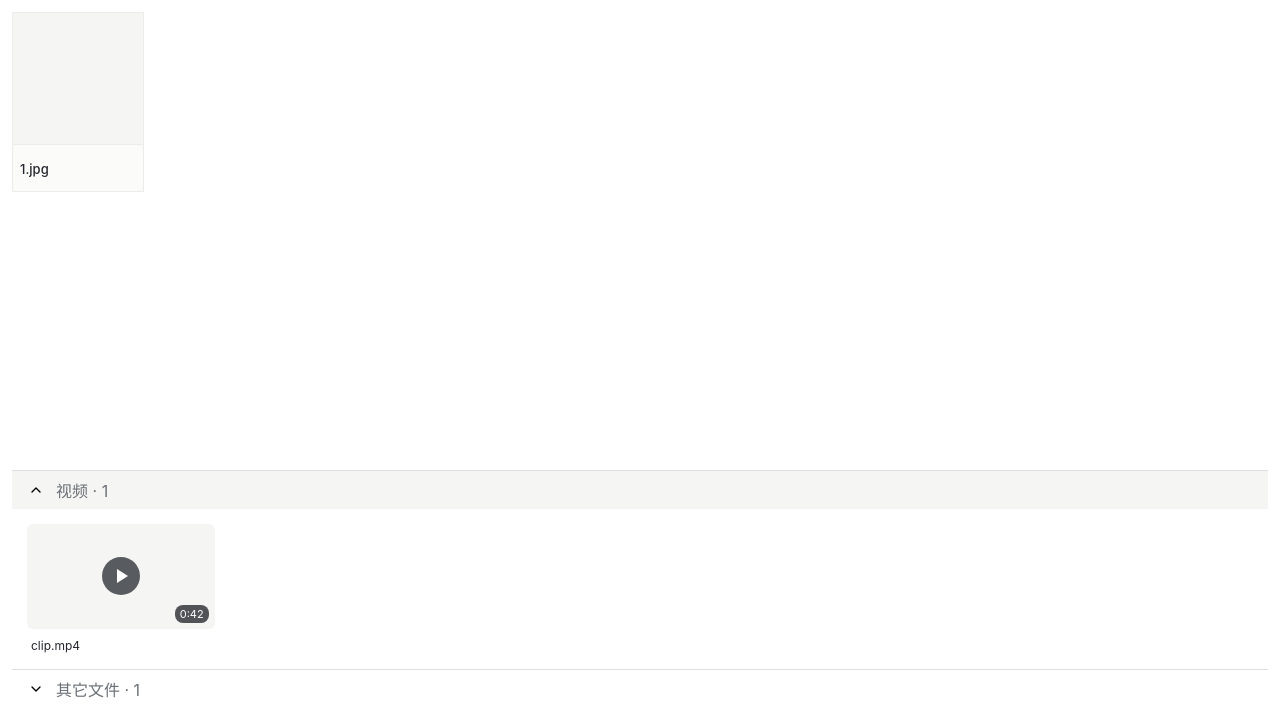
Test: ContentBrowser › keeps video selection while disclosure changes and forwards its entity through selection
This screenshot has width=1280, height=720.
Click the option "0:42 clip.mp4".
click(121, 602)  # box [22,518,220,686]
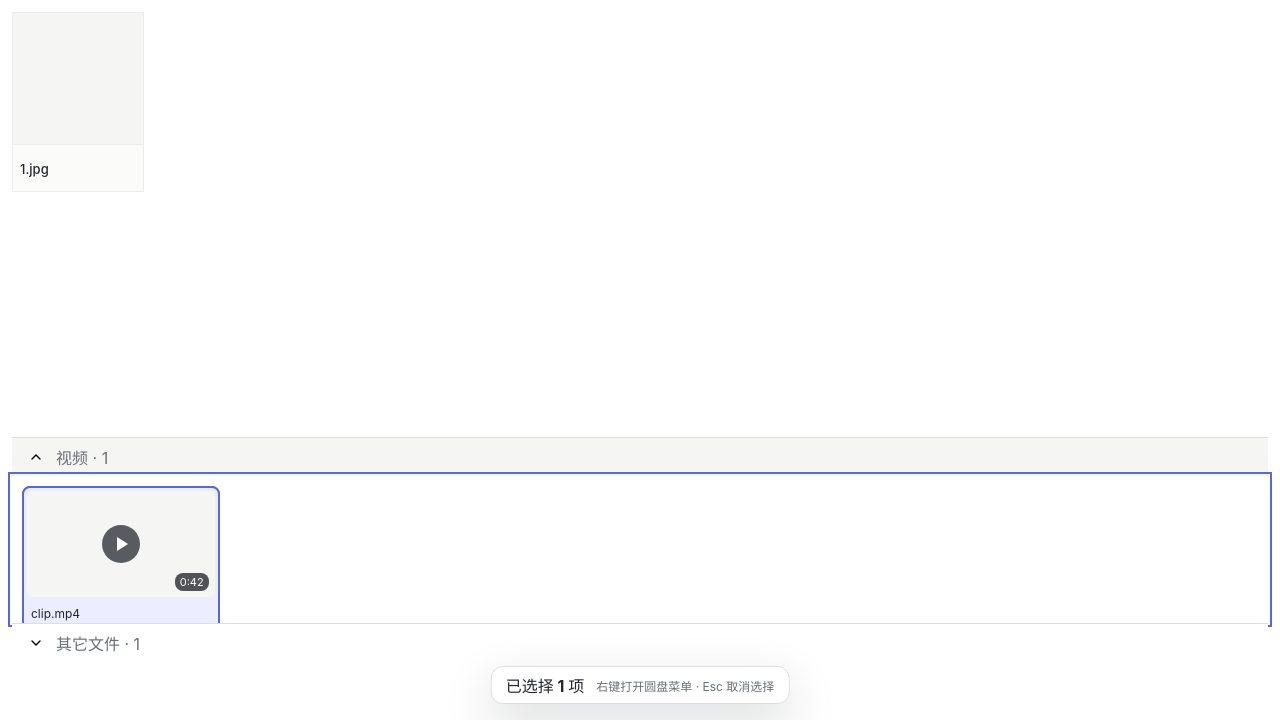
Click the button named "收起视频".
click(36, 458)  # box [20,442,52,474]
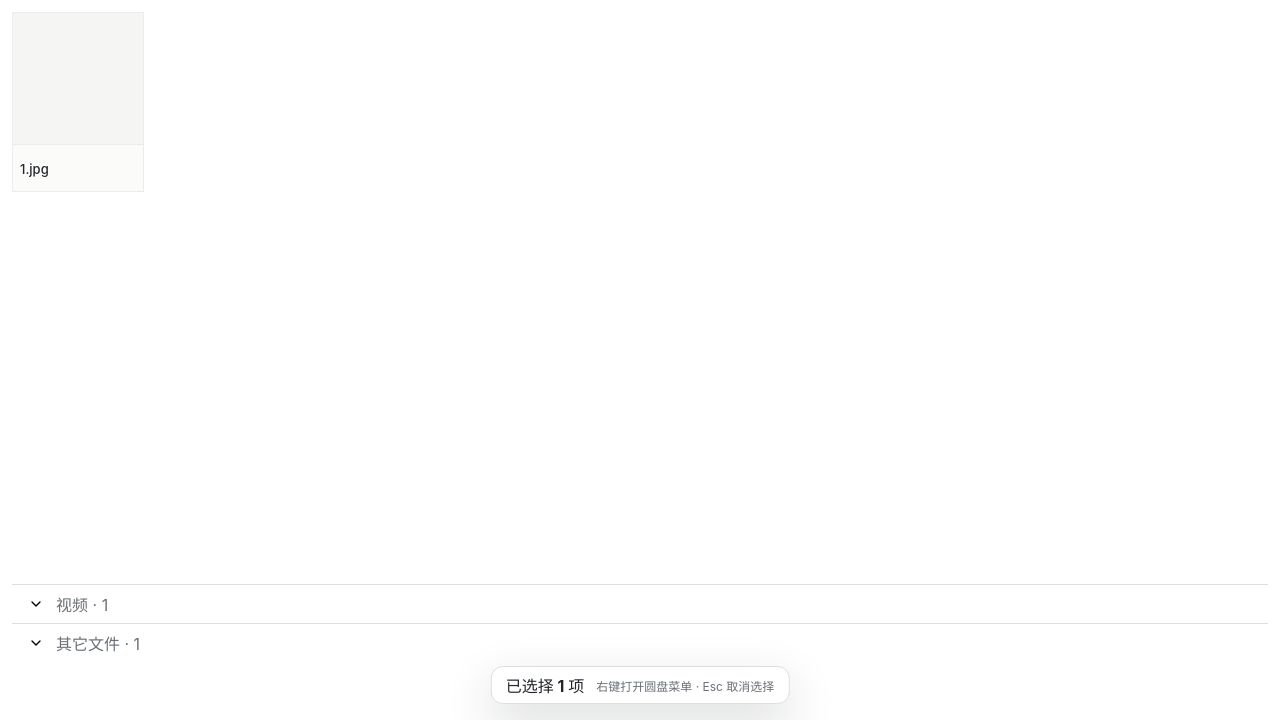
Now the message named "选择摘要" shows "已选择 1 项", box [491,666,789,704]
Now the option "clip.mp4" is gone
